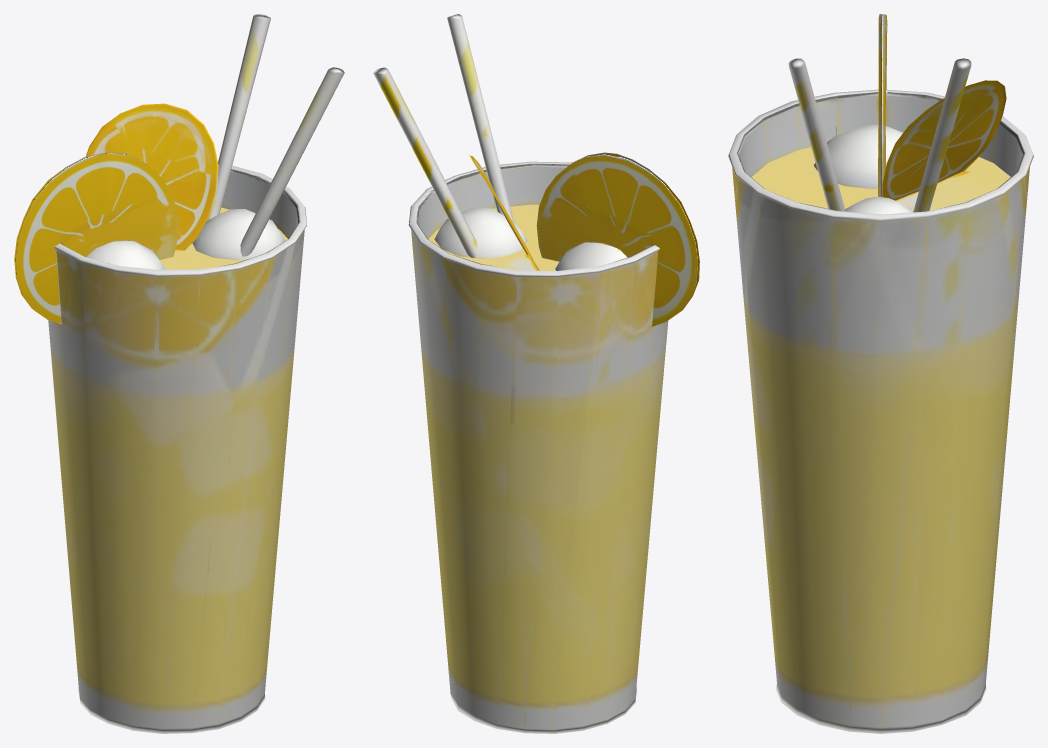
The model's file is food_lemonade.glb.
The picture shows the model from 3 angles, left to right: view 1: azimuth 30°, elevation 25°; view 2: azimuth 150°, elevation 25°; view 3: azimuth 270°, elevation 25°; orthographic projection. The views are drawn at different scales.
Bounding box in the file's own units: 0.4878 × 1 × 0.3981.
1 material, 1 textured.
